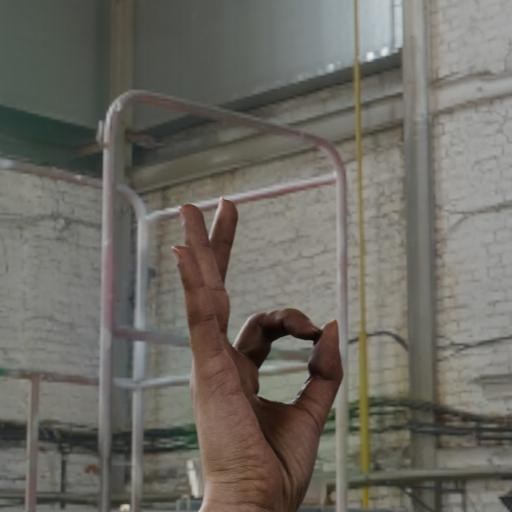F: (141, 184, 370, 512)
